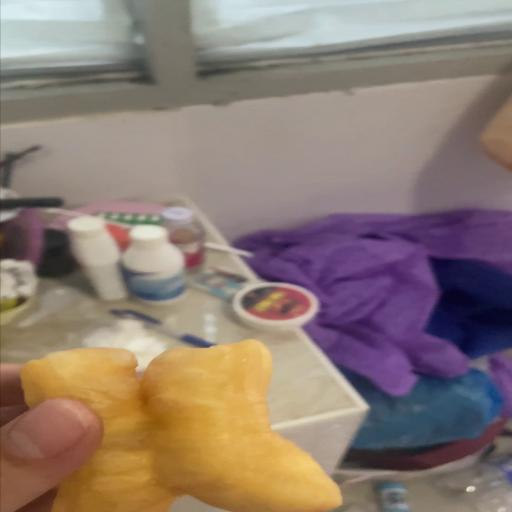street_golden_good: (15, 341, 341, 512)
